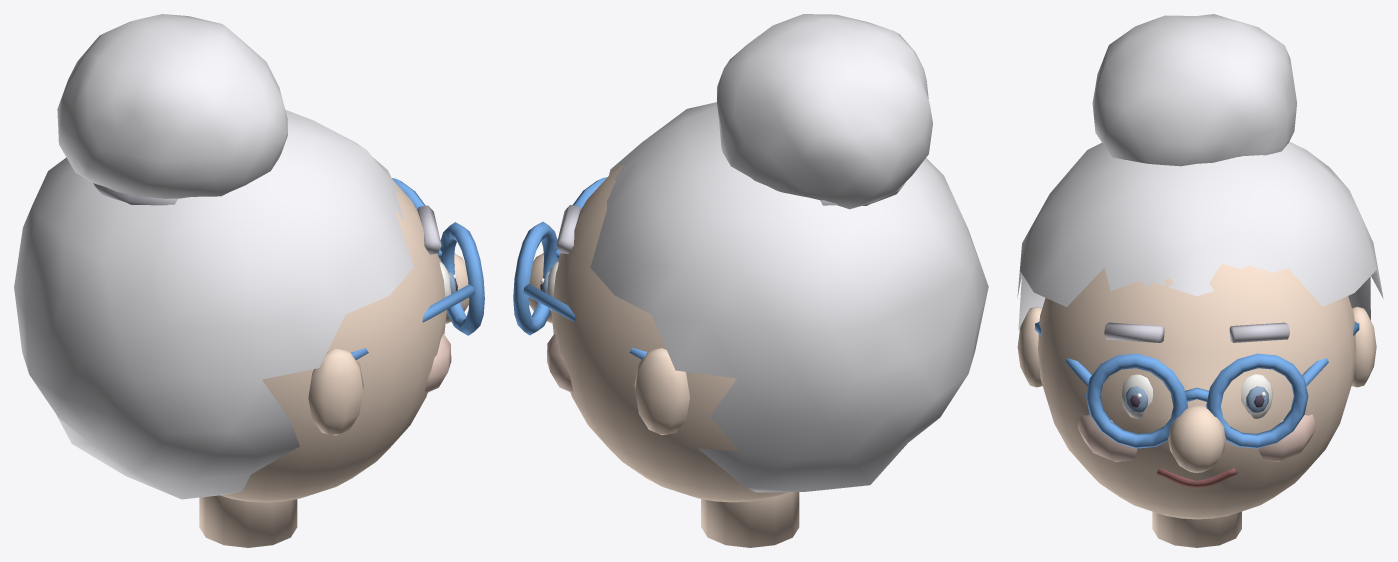
Rendered from gran_head.glb.
3 views of the same model, side by side, from view 1: azimuth 30°, elevation 25°; view 2: azimuth 150°, elevation 25°; view 3: azimuth 270°, elevation 25° (orthographic). The views are drawn at different scales.
Parts seen in each view (by area): view 1: gran_head; view 2: gran_head; view 3: gran_head.
Part boxes in pixels (x1,y1,x2,y2): gran_head: (14, 14, 484, 547); gran_head: (513, 14, 988, 547); gran_head: (1017, 14, 1383, 547).
Bounding box in the file's own units: 0.6012 × 0.6945 × 0.4908.
